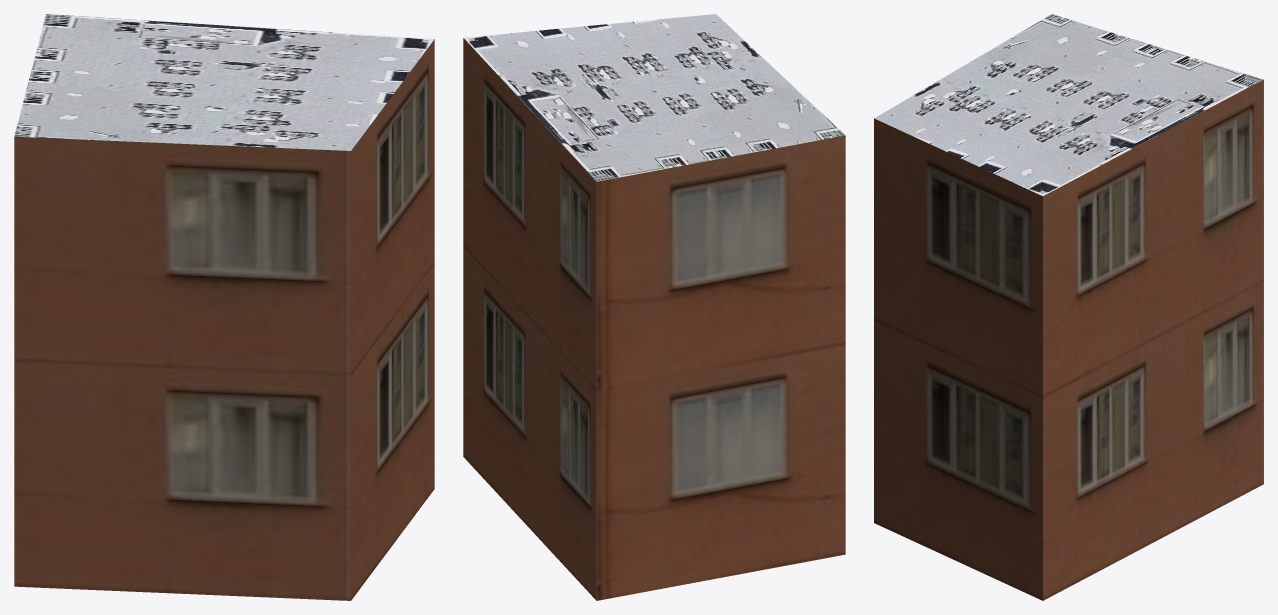
Rendered from ResTex__3297.fbx.
3 renders of one model, left to right at view 1: azimuth 30°, elevation 25°; view 2: azimuth 150°, elevation 25°; view 3: azimuth 270°, elevation 25°, orthographic. The views are drawn at different scales.
Visible parts, largest first — view 1: CityEngineMaterial_20_m, CityEngineMaterial_8_m; view 2: CityEngineMaterial_20_m, CityEngineMaterial_8_m; view 3: CityEngineMaterial_20_m, CityEngineMaterial_8_m.
Boxes of the visible parts, x1=… form: CityEngineMaterial_20_m: x1=14, y1=39, x2=434, y2=600; CityEngineMaterial_8_m: x1=14, y1=14, x2=434, y2=150; CityEngineMaterial_20_m: x1=463, y1=38, x2=845, y2=600; CityEngineMaterial_8_m: x1=463, y1=14, x2=845, y2=181; CityEngineMaterial_20_m: x1=874, y1=79, x2=1263, y2=600; CityEngineMaterial_8_m: x1=874, y1=14, x2=1263, y2=195.
Bounding box in the file's own units: 5.8 × 6 × 5.24.
Materials: 2 (2 with a texture image).
